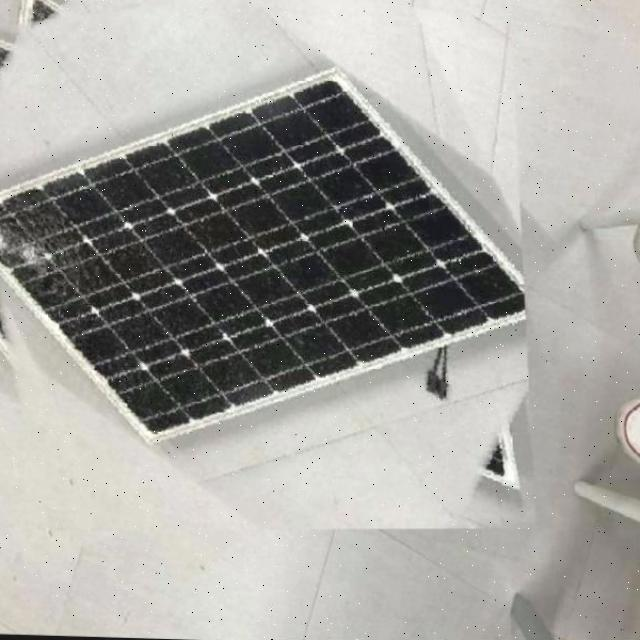Structural Damage: (0, 203, 71, 281)
